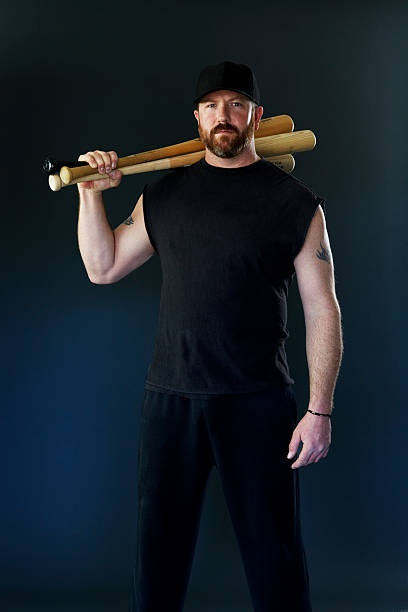bita: (38, 111, 318, 195)
